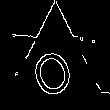O_SE: (28, 40, 82, 106)
